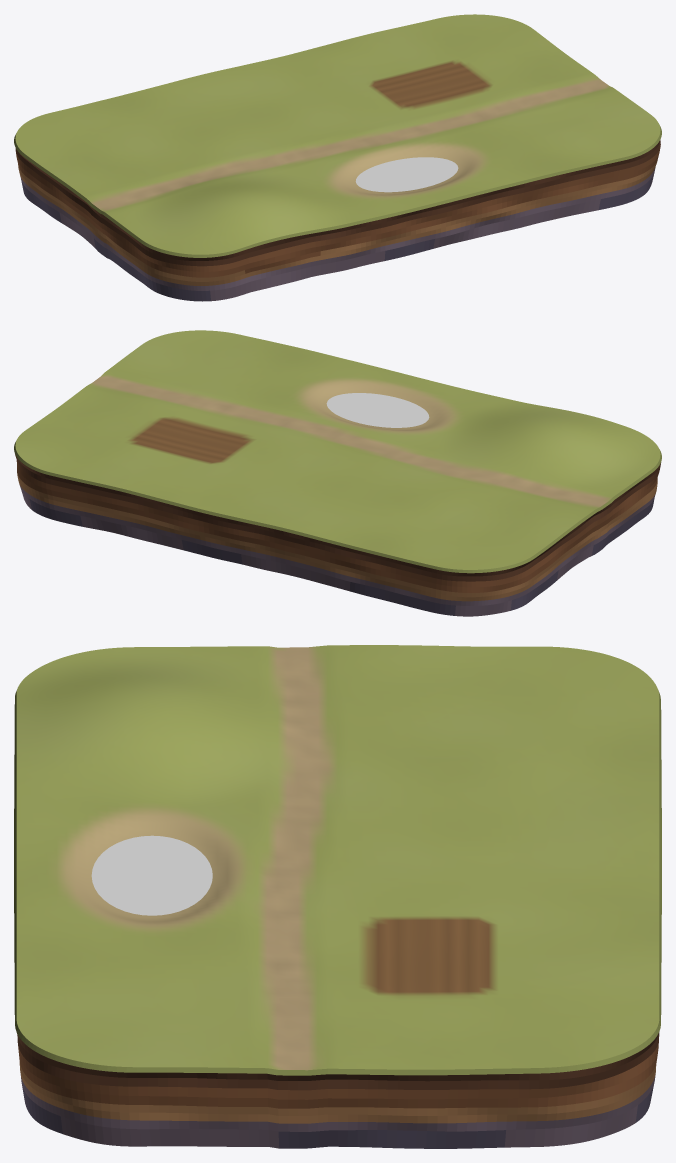
Rendered from terrain_level11.fbx.
3 renders of one model, top to bottom at view 1: azimuth 30°, elevation 25°; view 2: azimuth 150°, elevation 25°; view 3: azimuth 270°, elevation 25°, orthographic. The views are drawn at different scales.
Parts seen in each view (by area): view 1: Ground, Water_trough; view 2: Ground, Water_trough; view 3: Ground, Water_trough.
Boxes of the visible parts, x1,y1,x2,y2 form: Ground: (14,14,661,301); Water_trough: (355,157,458,192); Ground: (14,330,661,616); Water_trough: (326,393,429,427); Ground: (14,645,661,1148); Water_trough: (91,835,212,915).
Bounding box in the file's own units: 14.07 × 1.73 × 9.07.
